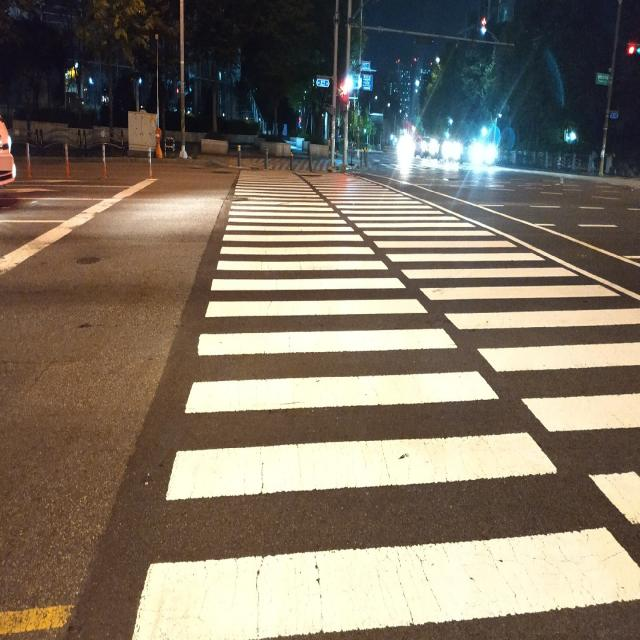횡단보도: (132, 170, 640, 640)
